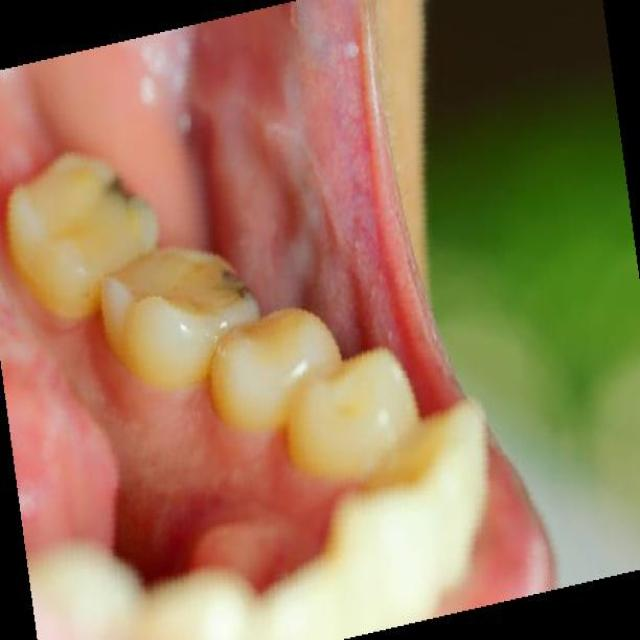caries: (99, 158, 160, 225), (211, 253, 273, 315)
